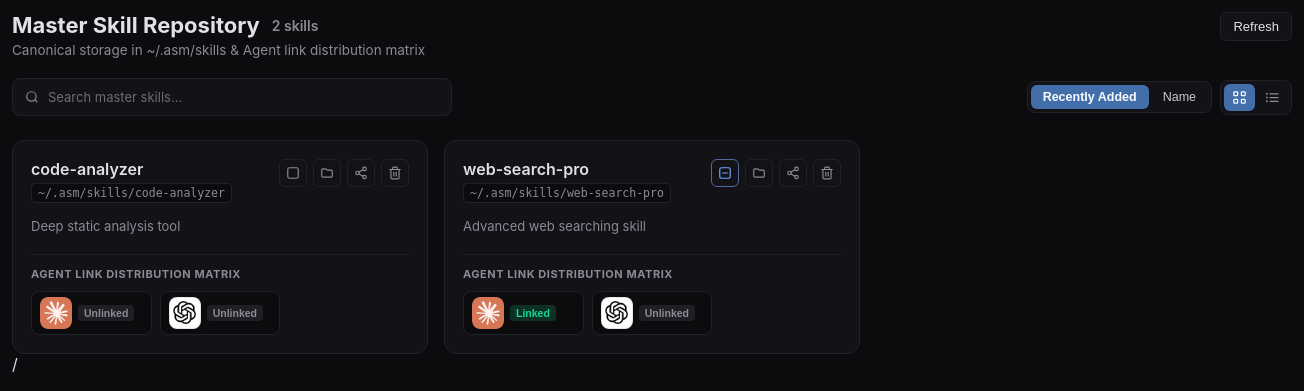
it: SkillLibrary Route › opens skill detail when clicking a master skill card
The image size is (1304, 391).
Click the link with test id "skill-card-web-search-pro" at (652, 247), box [444,140,860,354]
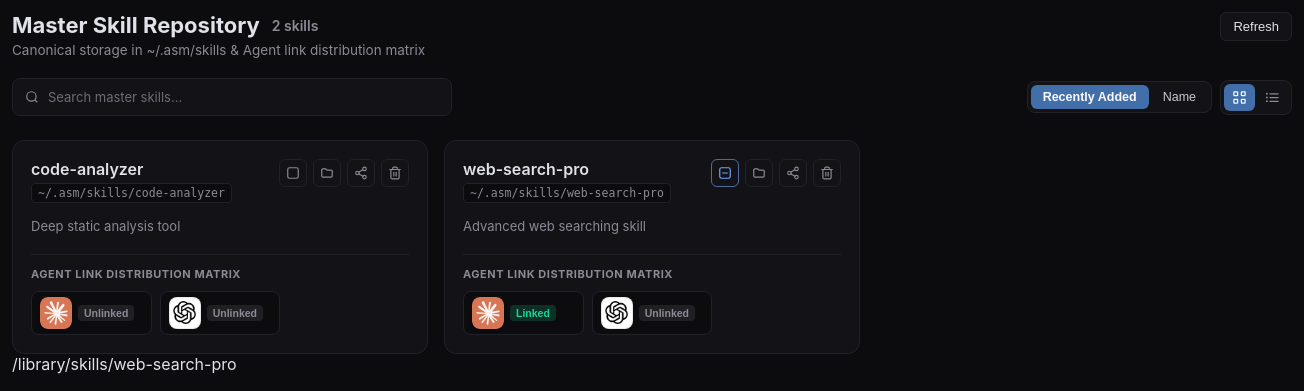
Expected: the text with test id "location-display" reads "/library/skills/web-search-pro", [12,354,237,374]
